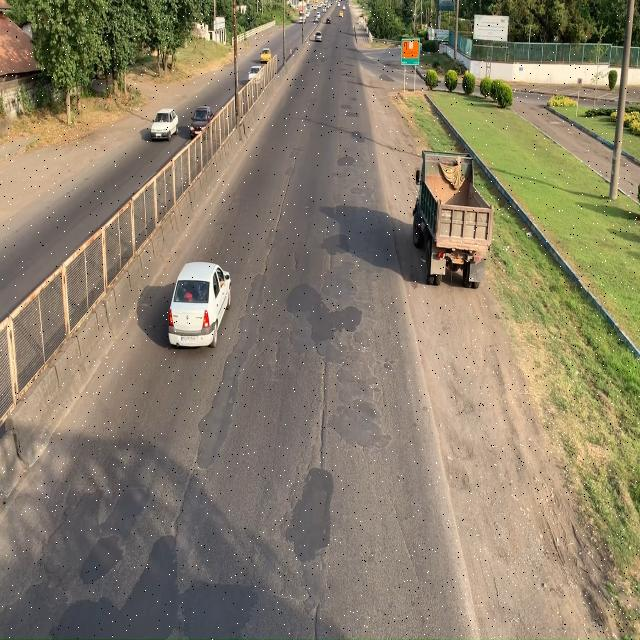Truck: (411, 148, 494, 288)
cars: (169, 261, 231, 346), (151, 108, 179, 140)
